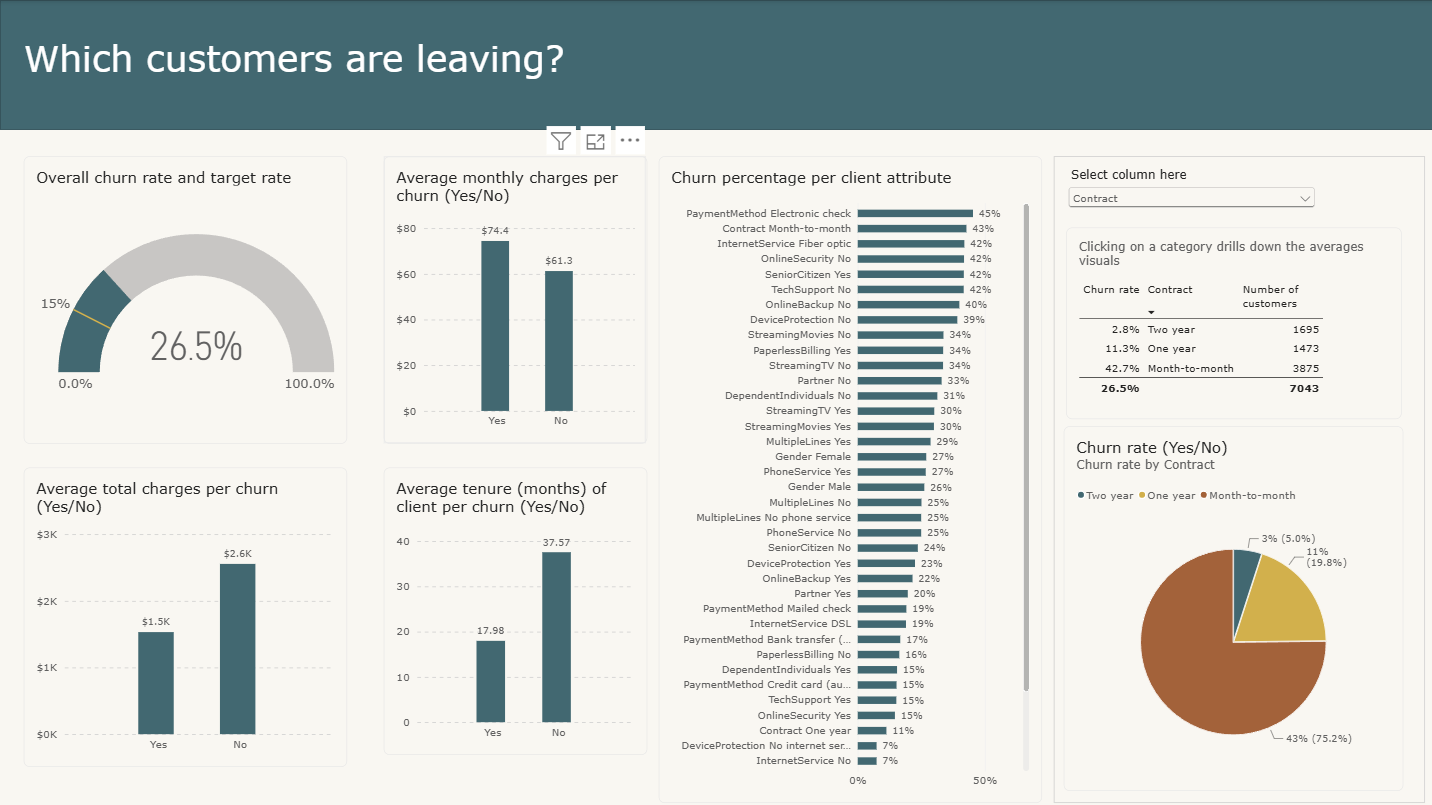

The dashboard page shown, as its layout file describes it:
{"tool":"powerbi","page":{"name":"Which customers are leaving?","canvas":[1920,1080],"ordinal":0},"visuals":[{"type":"shape","box":[0,0,1920.1,173.7],"z":0},{"type":"shape","box":[1408,208,496,864],"z":0,"group":"g1"},{"type":"tableEx","fields":{"Values":["Customer_churn.Churn rate","Customer_churn.Contract","Customer_churn.Number of customers"]},"box":[1424,304,448,255.9],"z":1000,"group":"g1"},{"type":"pieChart","title":"Churn rate (Yes/No)","fields":{"Category":["Customer_churn.Contract"],"Y":["Customer_churn.Churn rate"]},"box":[1422.2,569.3,453.5,487],"z":2000,"group":"g1"},{"type":"columnChart","title":"Average monthly charges per churn (Yes/No)","fields":{"Category":["Customer_churn.Churn"],"Y":["Avg(Customer_churn.MonthlyCharges)"]},"box":[512,208,352,384],"z":3000},{"type":"slicer","fields":{"Values":["Parameter.Parameter"]},"box":[1422.7,223.7,339,62.8],"z":3000,"group":"g1"},{"type":"columnChart","title":"Average tenure (months) of client per churn (Yes/No)","fields":{"Category":["Customer_churn.Churn"],"Y":["Avg(Customer_churn.tenure)"]},"box":[512,624,352,384],"z":4000},{"type":"textbox","box":[32,48,784,80],"z":5000},{"type":"gauge","title":"Overall churn rate and target rate","fields":{"TargetValue":["Customer_churn.Target churn percentage"],"Y":["Customer_churn.Churn rate"]},"box":[32,208,432,384],"z":6000},{"type":"group","id":"g1","title":"Group 1","box":[1408,208,496,864],"z":7000},{"type":"columnChart","title":"Average total charges per churn (Yes/No)","fields":{"Category":["Customer_churn.Churn"],"Y":["Avg(Customer_churn.TotalCharges)"]},"box":[32,624,432,400],"z":8000},{"type":"clusteredBarChart","title":"Churn percentage per client attribute","fields":{"Category":["Calc_table.Attribute","Calc_table.Value"],"Y":["Calc_table.Churn(%)"]},"box":[880,208,512,864],"z":9000}]}

Visuals, with their boxes in screenshot pixels (x1, y1, x2, y2), scaled from the page's 1920x1080 canvas onto the 1432x805 screenshot:
shape: bbox(0, 0, 1431, 129)
shape: bbox(1050, 155, 1420, 799)
tableEx - Customer_churn.Churn rate x Customer_churn.Contract: bbox(1062, 227, 1396, 417)
"Churn rate (Yes/No)" pieChart: bbox(1061, 424, 1399, 787)
"Average monthly charges per churn (Yes/No)" columnChart: bbox(382, 155, 644, 441)
slicer - Parameter.Parameter: bbox(1061, 167, 1314, 214)
"Average tenure (months) of client per churn (Yes/No)" columnChart: bbox(382, 465, 644, 751)
textbox: bbox(24, 36, 609, 95)
"Overall churn rate and target rate" gauge: bbox(24, 155, 346, 441)
"Group 1" group: bbox(1050, 155, 1420, 799)
"Average total charges per churn (Yes/No)" columnChart: bbox(24, 465, 346, 763)
"Churn percentage per client attribute" clusteredBarChart: bbox(656, 155, 1038, 799)
